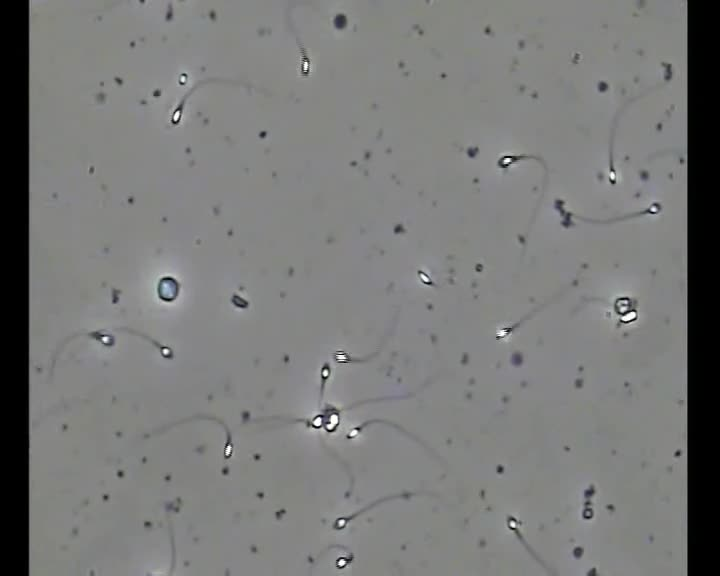spermhead: (157, 276, 179, 301), (613, 296, 635, 316), (89, 330, 114, 346), (323, 408, 339, 432), (617, 310, 638, 327), (497, 154, 518, 168), (416, 269, 434, 285), (230, 293, 248, 309), (170, 104, 183, 125), (335, 553, 353, 568), (334, 349, 352, 363), (507, 515, 521, 533), (300, 51, 310, 75), (223, 435, 233, 459), (495, 326, 511, 340), (346, 425, 361, 439), (646, 201, 662, 214), (309, 414, 323, 428), (159, 345, 174, 358), (333, 516, 348, 529), (553, 198, 566, 213), (561, 211, 573, 227), (607, 166, 617, 184), (320, 362, 330, 380), (178, 72, 188, 85)
